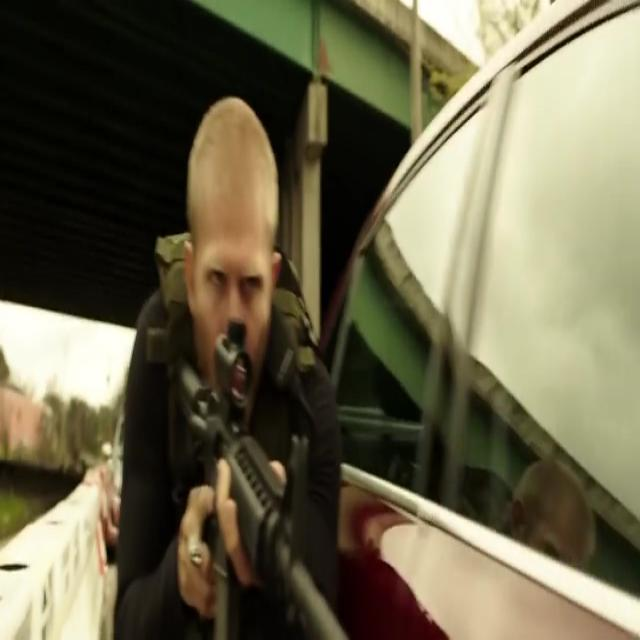Weapon: (167, 269, 342, 640)
